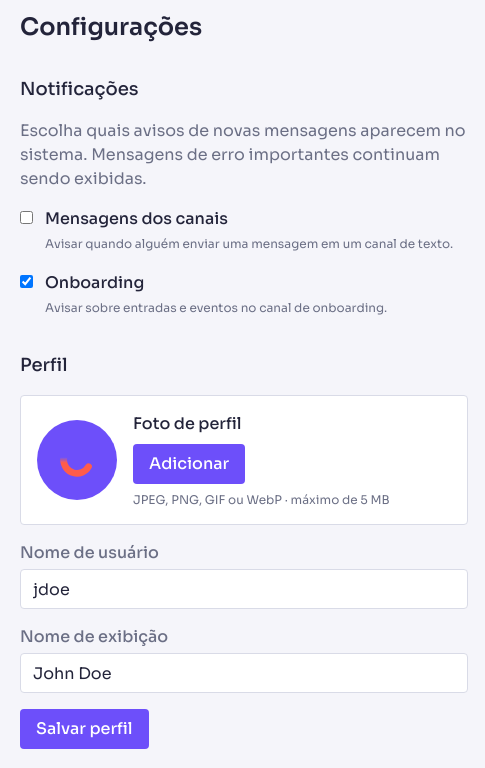
Test: SettingsPage › shows the backend error message when the profile update fails
The image size is (485, 768).
Click the button "Salvar perfil": [84, 729] box [20,709,149,749]
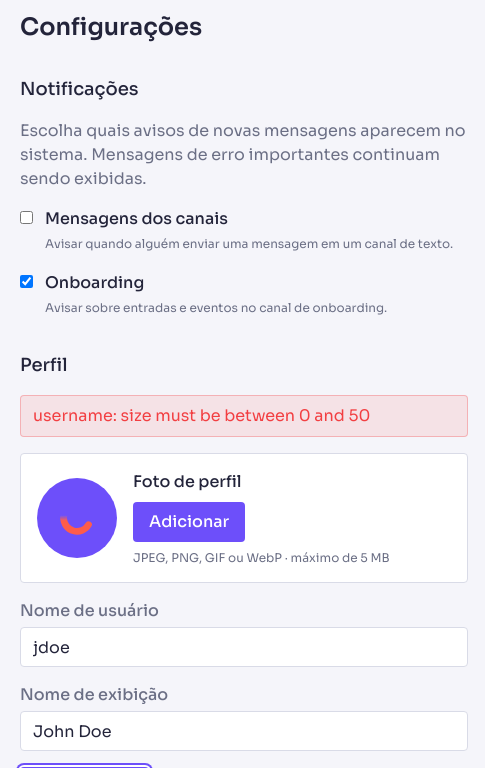
Expected: the message reads "username: size must be between 0 and 50", [33,405,370,426]
